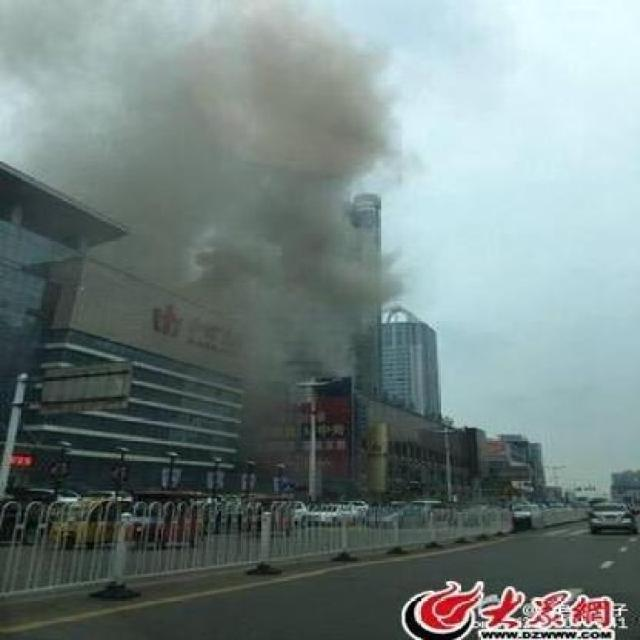Smoke: (122, 22, 400, 412)
